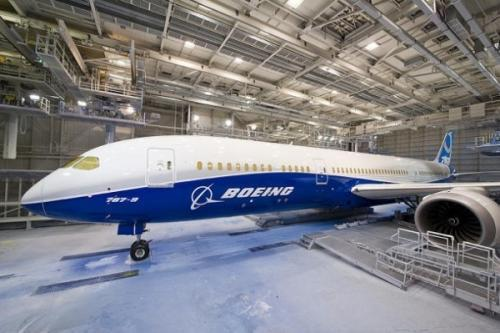airplane: (14, 125, 477, 245)
